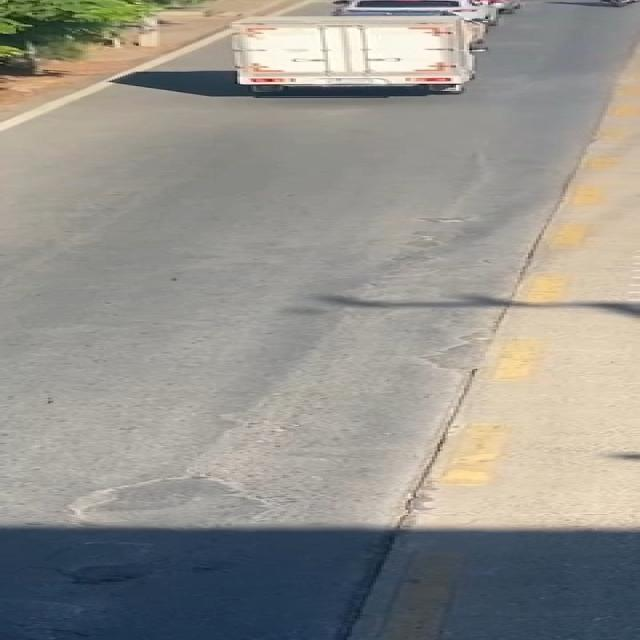car: (210, 10, 495, 102)
